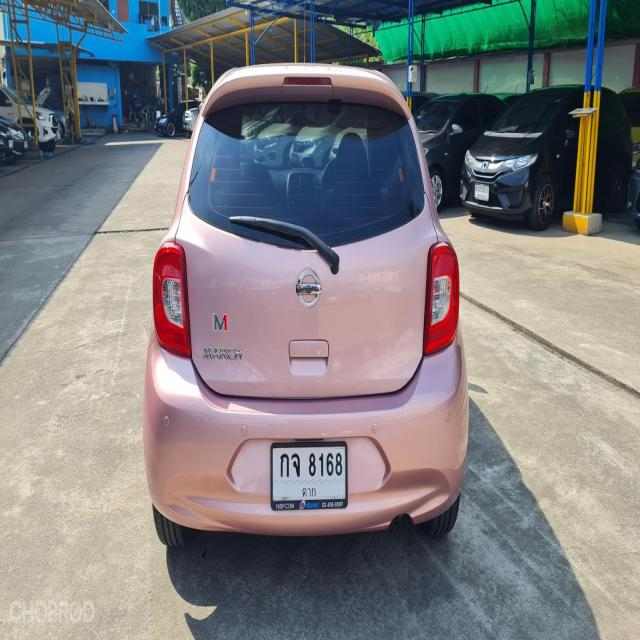license_plate: (268, 438, 351, 513), (476, 182, 490, 204)
